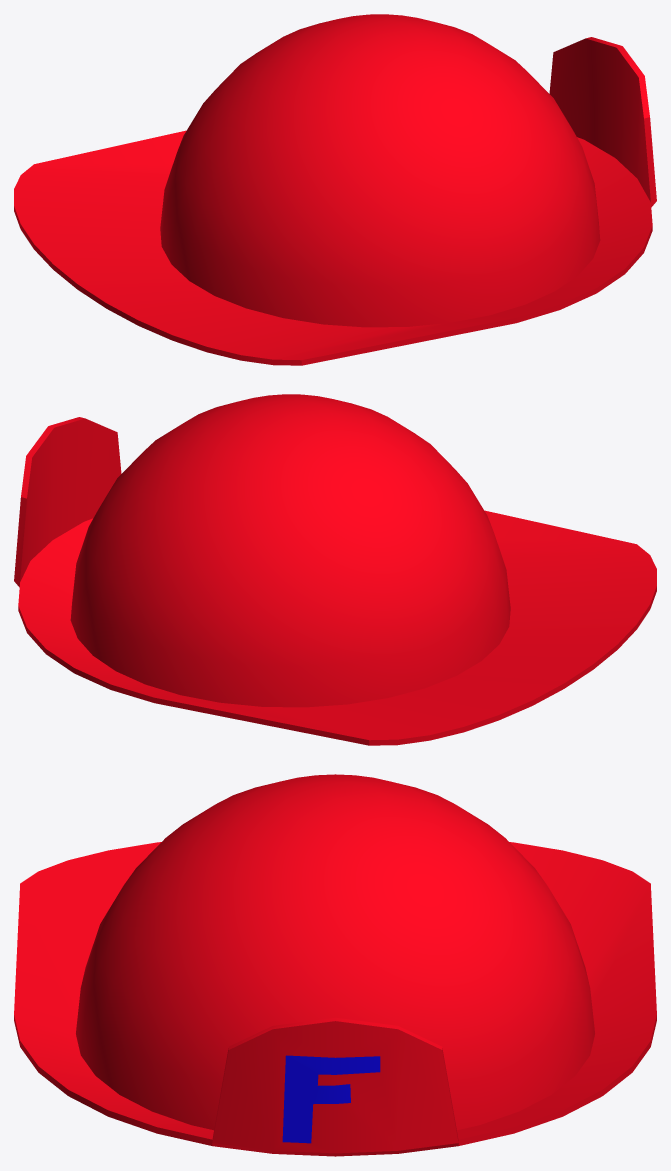
Rendered from firemans hat.fbx.
3 views of the same model, one above another, from view 1: azimuth 30°, elevation 25°; view 2: azimuth 150°, elevation 25°; view 3: azimuth 270°, elevation 25° (orthographic). The views are drawn at different scales.
Visible parts, largest first — view 1: Sphere; view 2: Sphere; view 3: Sphere.
Boxes of the visible parts, bbox=[...] form: Sphere: bbox=[14, 14, 656, 365]; Sphere: bbox=[14, 394, 656, 745]; Sphere: bbox=[14, 774, 656, 1156].
Bounding box in the file's own units: 1075 × 387 × 933.
